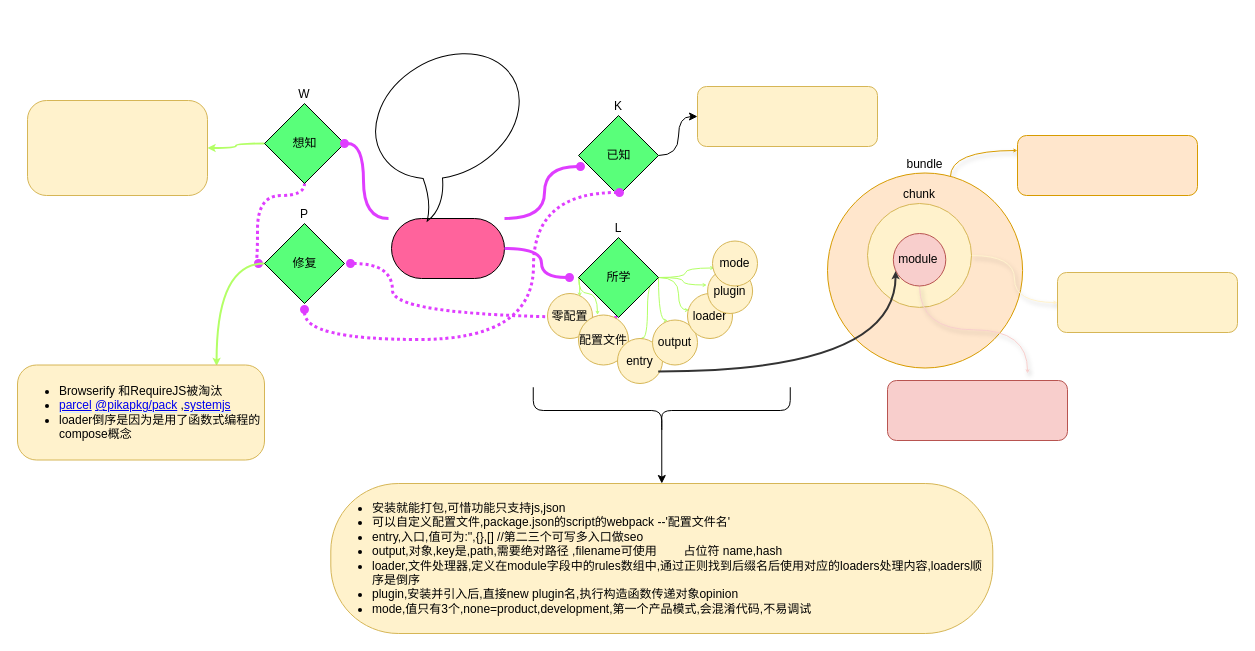
Image size: 1255x651. Some labels were removed from this diagram. The shapes that lost their labels are listed below. From the top down, each one's centre as x and y in pixels, then its label:
point 451,122: 你好,webpack
point 787,116: loader webpack安装 webpack局部安装原因
point 117,148: webpack的前世今生 webpack的兄弟姐妹 loader为什么是倒序
point 1107,165: chunk添加启动函数,能直接在浏览器运行
point 447,248: webpack概念
point 1147,302: module被webpack转换的片段
point 977,410: 入口文件的业务代码.和引入的文件
